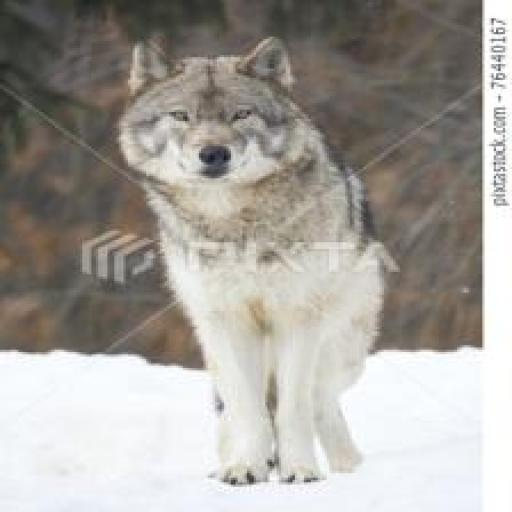wolf: (89, 34, 430, 512)
